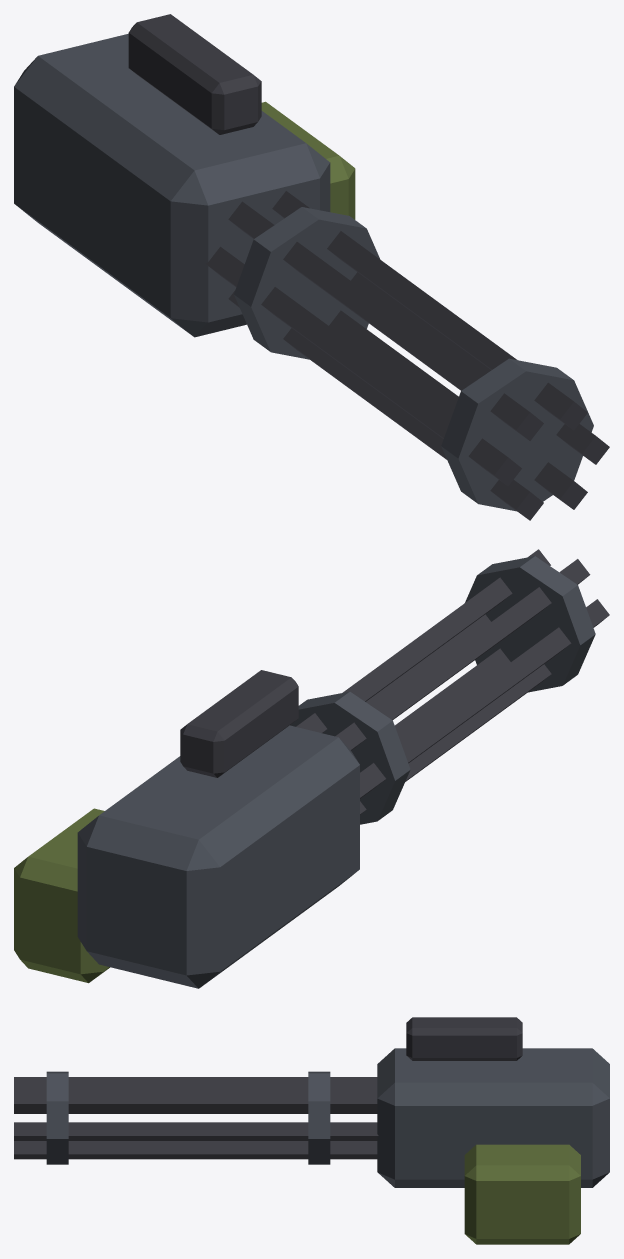
The model's file is Minigun.fbx.
3 views of the same model, one above another, from view 1: azimuth 30°, elevation 25°; view 2: azimuth 150°, elevation 25°; view 3: azimuth 270°, elevation 25° (orthographic). The views are drawn at different scales.
Parts seen in each view (by area): view 1: Minigun; view 2: Minigun; view 3: Minigun.
Boxes of the visible parts, x1=… form: Minigun: x1=14, y1=14, x2=609, y2=520; Minigun: x1=14, y1=549, x2=609, y2=988; Minigun: x1=14, y1=1017, x2=609, y2=1244.
Bounding box in the file's own units: 1.25 × 1.33 × 4.1.
1 material, 1 textured.
